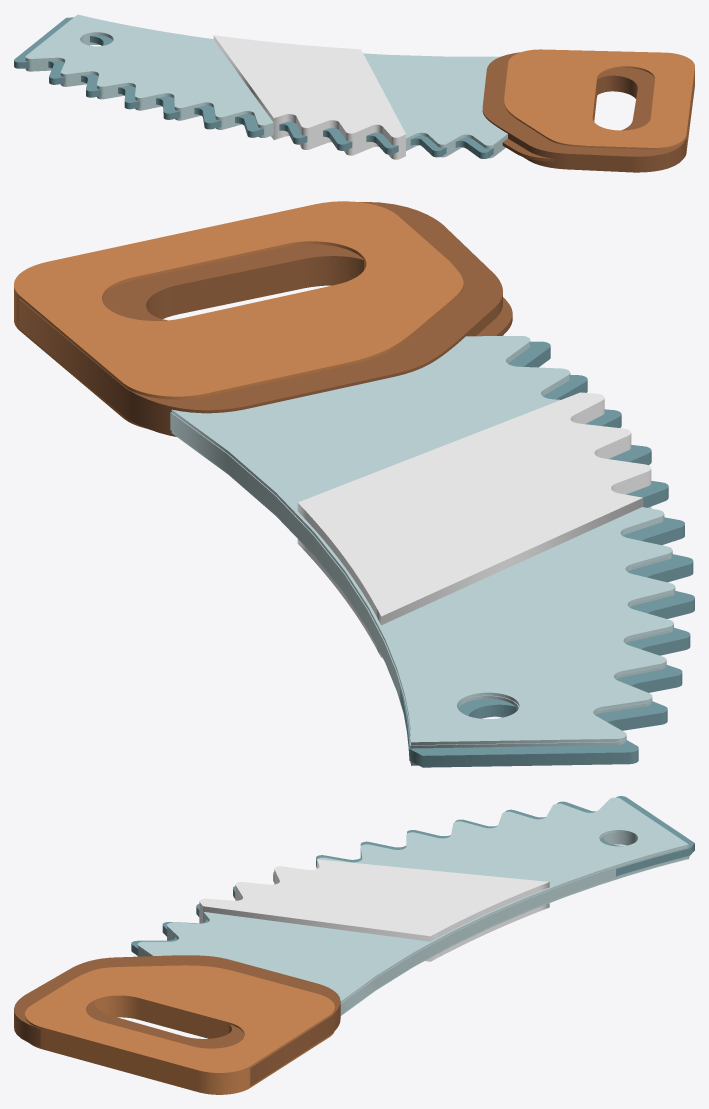
Rendered from emoji_u1fa9a.glb.
3 views of the same model, one above another, from view 1: azimuth 30°, elevation 25°; view 2: azimuth 150°, elevation 25°; view 3: azimuth 270°, elevation 25° (orthographic). The views are drawn at different scales.
Parts seen in each view (by area): view 1: emoji_u1fa9a; view 2: emoji_u1fa9a; view 3: emoji_u1fa9a.
Part boxes in pixels (x1,y1,x2,y2): emoji_u1fa9a: (14, 14, 694, 172); emoji_u1fa9a: (14, 201, 694, 767); emoji_u1fa9a: (14, 796, 694, 1094).
Bounding box in the file's own units: 0.0334 × 0.0014 × 0.0338.
